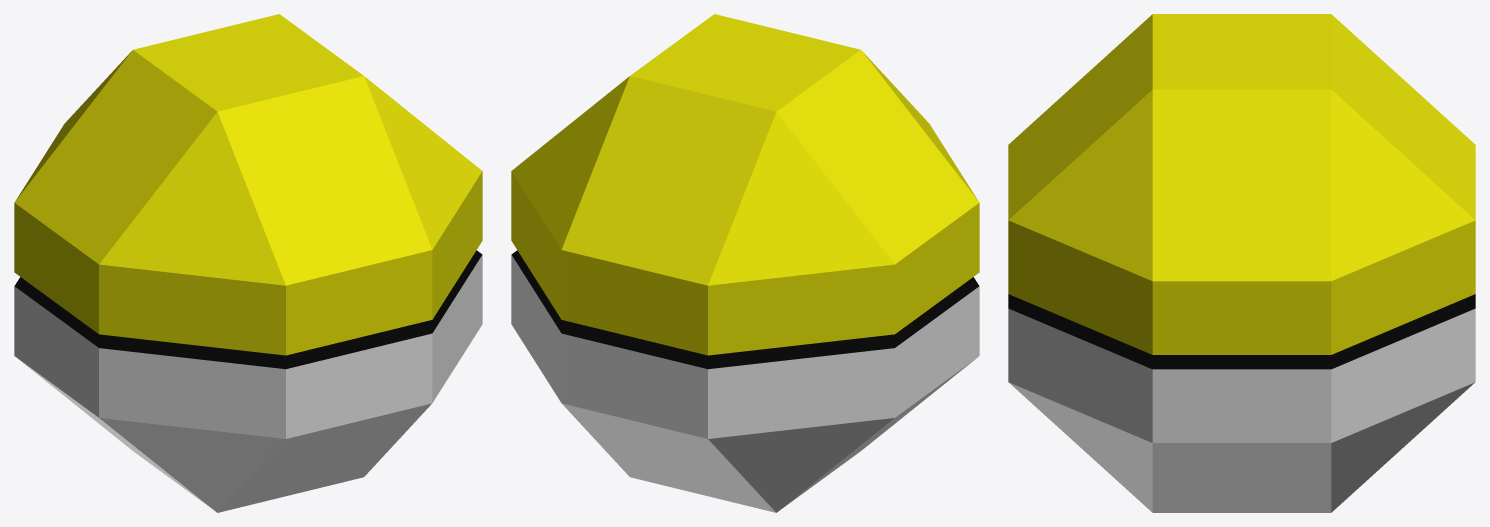
File: yelluhball.fbx
3 renders of one model, left to right at view 1: azimuth 30°, elevation 25°; view 2: azimuth 150°, elevation 25°; view 3: azimuth 270°, elevation 25°, orthographic. The views are drawn at different scales.
Visible parts, largest first — view 1: Cube.002; view 2: Cube.002; view 3: Cube.002.
Part boxes in pixels (<box>): Cube.002: <box>14,14,482,512</box>; Cube.002: <box>511,14,979,512</box>; Cube.002: <box>1008,14,1475,512</box>.
Bounding box in the file's own units: 200 × 200 × 200.
